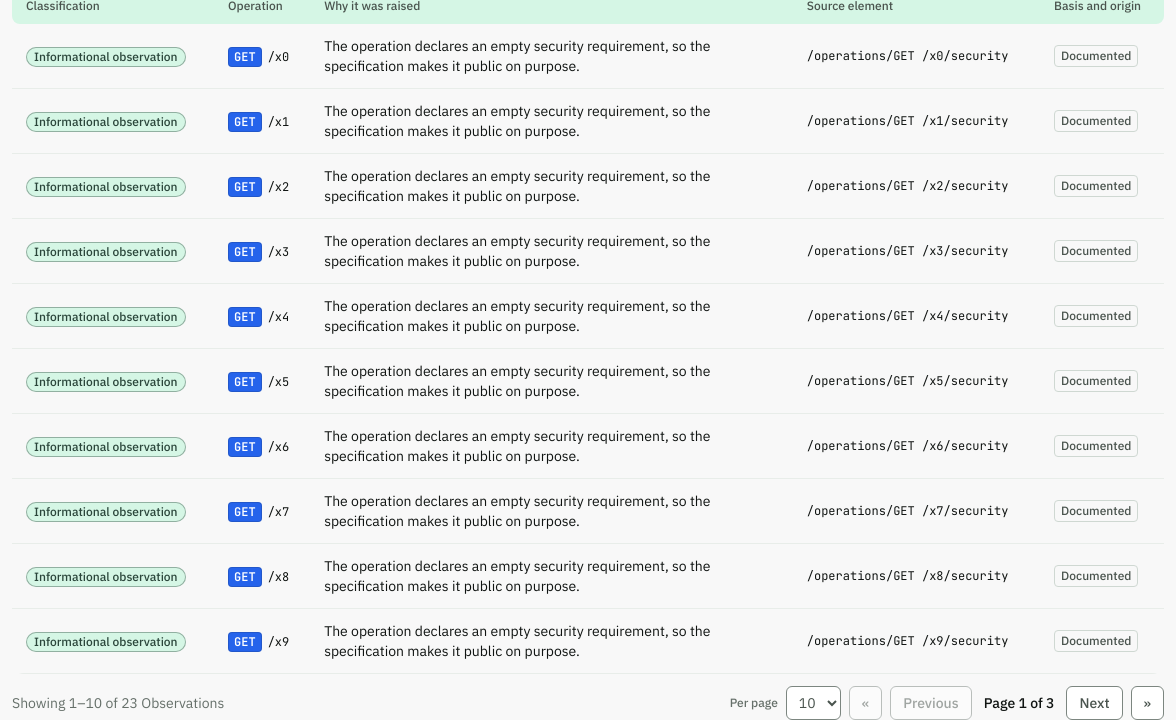
Test case: ObservationList (FR-008) › pages a long list and keeps the total visible
(page scrolled)
Expected: the navigation bar with test id "observation-list-pagination" is shown, 12,686 -> 1164,719
Click the button "Next" at (1094, 703), box 1066,686 -> 1122,719
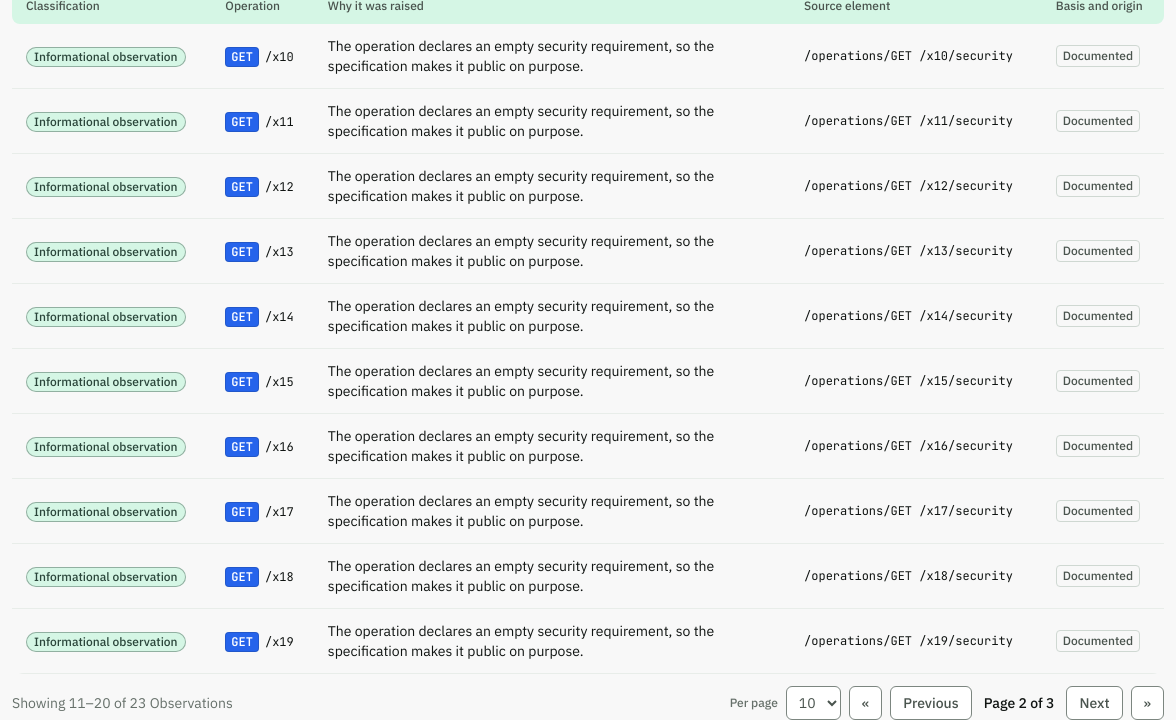
Click the button "Next" at (1094, 703), box 1066,686 -> 1122,719
(page scrolled)
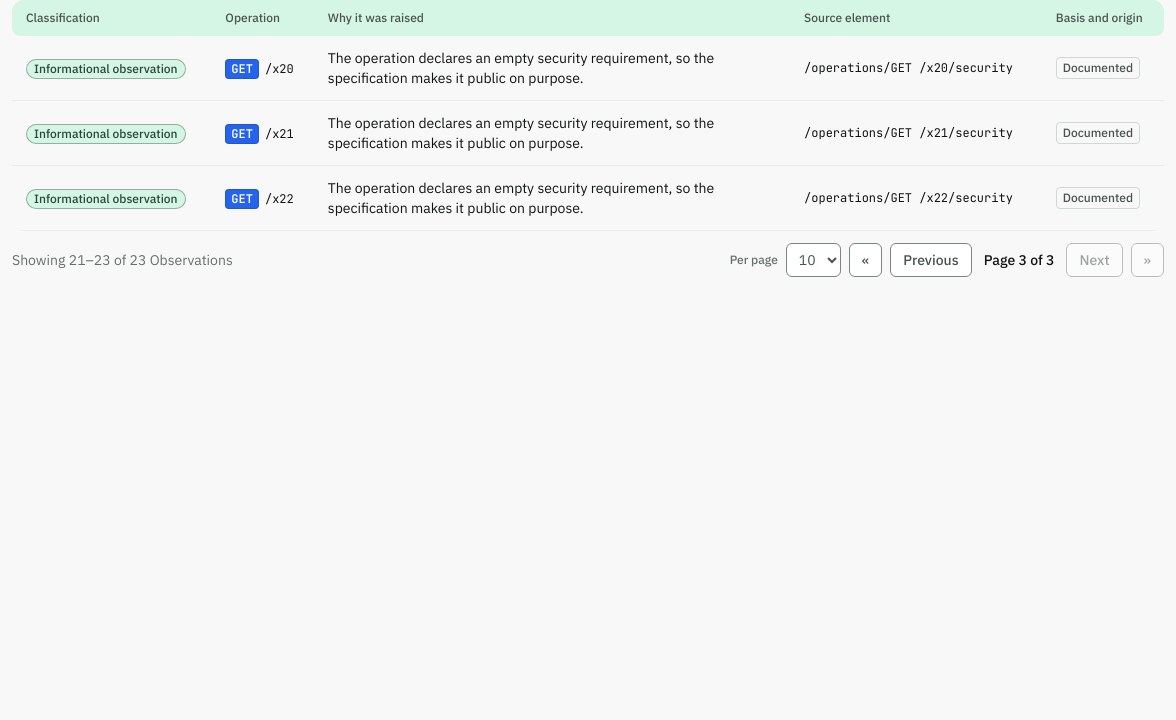
Now the number of rows with test id "observation-row" is 3, box 12,36 -> 1164,100; 12,100 -> 1164,166; 12,166 -> 1164,230
